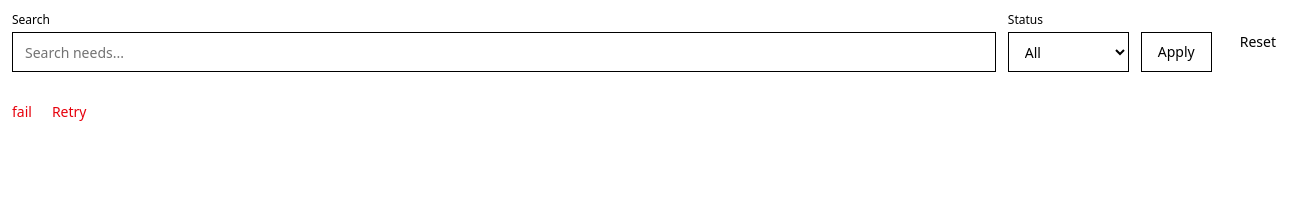
it: NeedsList component › shows error and retries
Expected: the text "fail" is shown, x1=12 y1=102 x2=32 y2=122
Click the button "Retry".
click(69, 112)  # box x1=40 y1=96 x2=98 y2=128
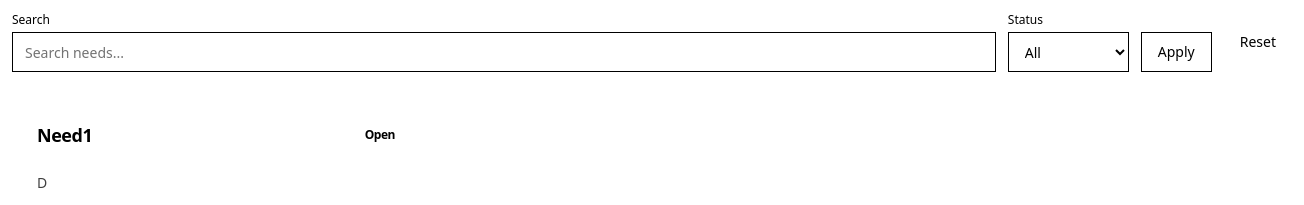
Expected: the link "Need1" is shown, x1=37 y1=121 x2=92 y2=149
